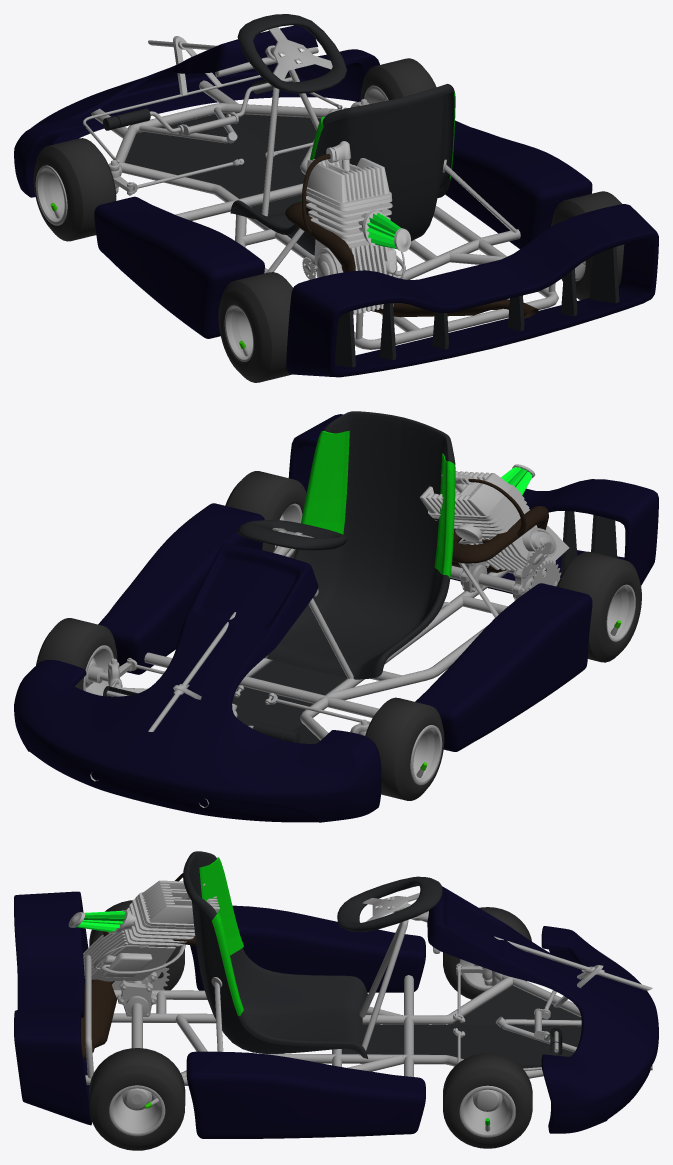
Rendered from Go Kart.fbx.
3 views of the same model, one above another, from view 1: azimuth 30°, elevation 25°; view 2: azimuth 150°, elevation 25°; view 3: azimuth 270°, elevation 25° (orthographic). The views are drawn at different scales.
Visible parts, largest first — view 1: body sheet rare, frame wrok.002, seat.003, body sheet side ryt, body sheet front.002, body sheet side left, Engine.001, tyre 4, tyre 2, steering wheel, exhaust.001, tyre 2.001 (+5 smaller); view 2: body sheet front.002, seat.003, body sheet side ryt, frame wrok.002, body sheet side left, body sheet rare, Engine.001, tyre 2, tyre 4, tyre 4.001, tyre 2.001, steering wheel (+6 smaller); view 3: body sheet front.002, frame wrok.002, body sheet side left, seat.003, body sheet rare, body sheet side ryt, Engine.001, tyre 4.001, tyre 2.001, steering wheel, rim 1, rim 1.001 (+5 smaller).
Boxes of the visible parts, box(x1,y1,x2,y2) form: body sheet rare: box(286, 204, 658, 377); frame wrok.002: box(83, 47, 558, 349); seat.003: box(230, 84, 455, 255); body sheet side ryt: box(94, 196, 264, 338); body sheet front.002: box(14, 25, 379, 197); body sheet side left: box(445, 120, 592, 248); Engine.001: box(302, 141, 410, 314); tyre 4: box(218, 272, 292, 382); tyre 2: box(33, 138, 116, 241); steering wheel: box(237, 14, 347, 93); exhaust.001: box(285, 201, 538, 318); tyre 2.001: box(360, 58, 436, 101); body sheet front.002: box(14, 543, 381, 822); seat.003: box(266, 411, 455, 679); body sheet side ryt: box(415, 583, 592, 751); frame wrok.002: box(90, 555, 557, 807); body sheet side left: box(98, 503, 264, 674); body sheet rare: box(288, 414, 658, 593); Engine.001: box(419, 464, 569, 572); tyre 2: box(365, 697, 444, 800); tyre 4: box(557, 551, 641, 662); tyre 4.001: box(225, 471, 306, 558); tyre 2.001: box(36, 618, 117, 690); steering wheel: box(237, 520, 347, 550); body sheet front.002: box(427, 886, 658, 1133); frame wrok.002: box(85, 920, 652, 1085); body sheet side left: box(186, 1051, 425, 1138); seat.003: box(183, 851, 368, 1058); body sheet rare: box(14, 891, 91, 1125); body sheet side ryt: box(190, 905, 425, 992); Engine.001: box(68, 873, 219, 981); tyre 4.001: box(89, 1048, 185, 1150); tyre 2.001: box(443, 1053, 532, 1148); steering wheel: box(337, 876, 442, 931); rim 1: box(459, 1085, 515, 1137); rim 1.001: box(109, 1085, 165, 1136).
Size of the model in its own units: 211 by 113 by 333.
